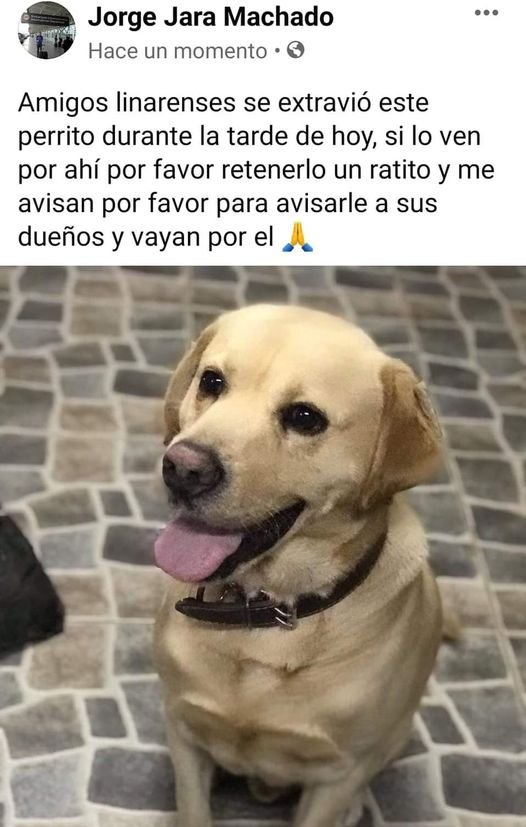dog: (6, 268, 514, 822)
